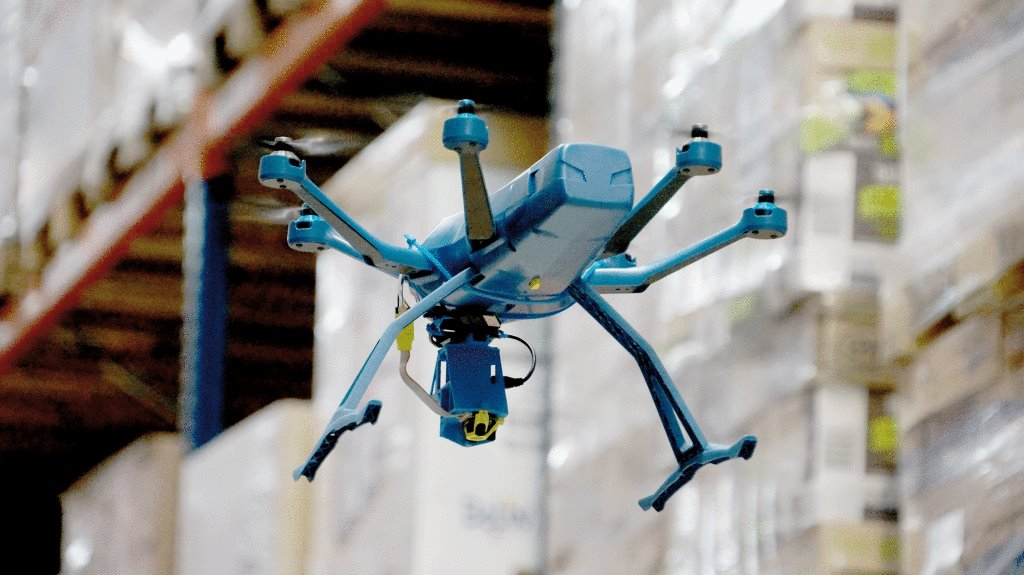drone: (247, 93, 813, 520)
